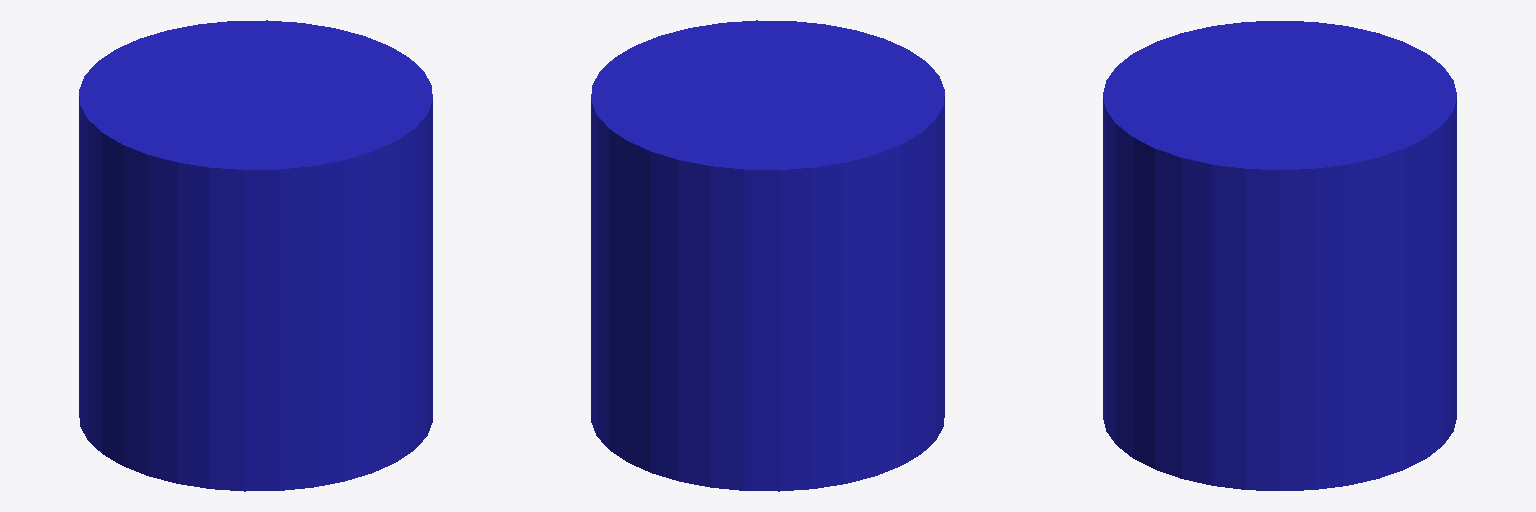
The robot description file, URDF, robot "cylinder.urdf":
<?xml version="1.0" ?>
<robot name="cylinder.urdf">
  <link name="baseLink">
    <contact>
      <friction_anchor/>
      <lateral_friction value="0.5"/>
      <rolling_friction value="0.005"/>
      <spinning_friction value="0.005"/>
    </contact>
    <inertial>
      <origin rpy="0 0 0" xyz="0 0 0"/>
      <mass value="0"/>
      <inertia ixx="1" ixy="0" ixz="0" iyy="1.3" iyz="0" izz="0.5"/>
    </inertial>
    <visual>
      <origin rpy="0 0 0" xyz="0 0 0"/>
      <geometry>
        <mesh filename="cylinder.obj" scale="0.1 0.1 0.1"/>
      </geometry>
      <material name="Blue">
        <color rgba="0.2 0.2 0.8 1"/>
      </material>
    </visual>
    <collision>
      <origin rpy="0 0 0" xyz="0 0 0"/>
      <geometry>
        <mesh filename="cylinder.obj" scale="0.1 0.1 0.1"/>
      </geometry>
    </collision>
  </link>
</robot>

--- What the picture shows (computed from the rendered views, not written in the file) ---
3 views of the same robot in one strip: view 1: azimuth 30°, elevation 25°; view 2: azimuth 150°, elevation 25°; view 3: azimuth 270°, elevation 25° (orthographic).
Robot: cylinder.urdf — 1 links, 0 joints (none); root link baseLink; default pose: every joint at zero.
Links seen in each view (by area): view 1: baseLink; view 2: baseLink; view 3: baseLink.
Link boxes in pixels (x1,y1,x2,y2): baseLink: [79, 20, 432, 491]; baseLink: [591, 20, 944, 491]; baseLink: [1103, 21, 1456, 490].
Size in the robot's own frame: 0.1 by 0.1 by 0.1 metres.
1 mesh visuals loaded from 1 distinct referenced files (1 OBJ).